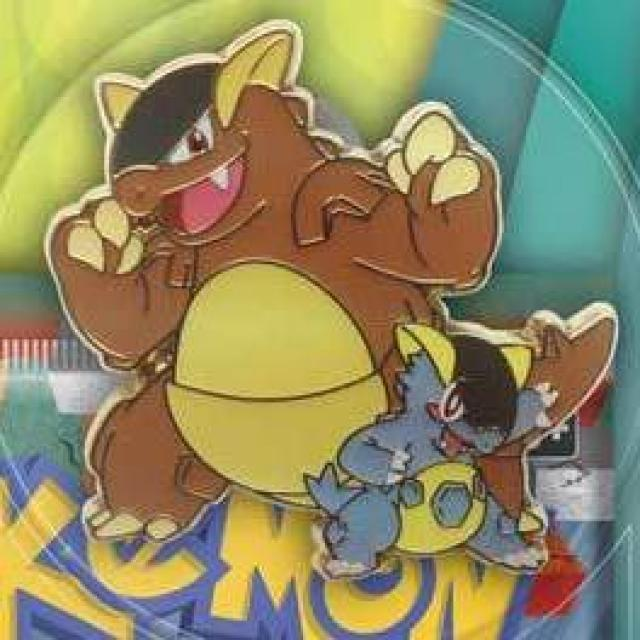Kangaskhan: (70, 11, 556, 558)
